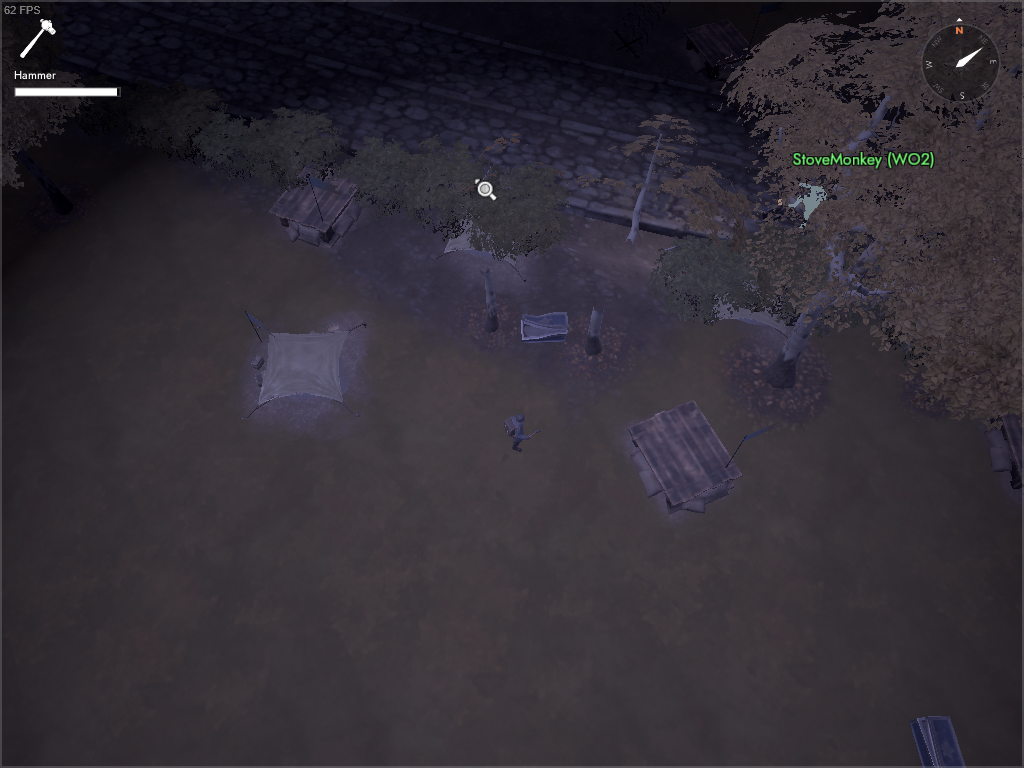foxhole: (236, 309, 377, 431), (433, 165, 558, 281), (694, 234, 812, 348)
motorcycle: (731, 176, 838, 257)
pillbox: (623, 396, 780, 522), (269, 156, 373, 254)
player: (786, 178, 825, 233), (501, 409, 543, 458)
storage_box: (907, 710, 971, 768), (516, 307, 573, 348)
